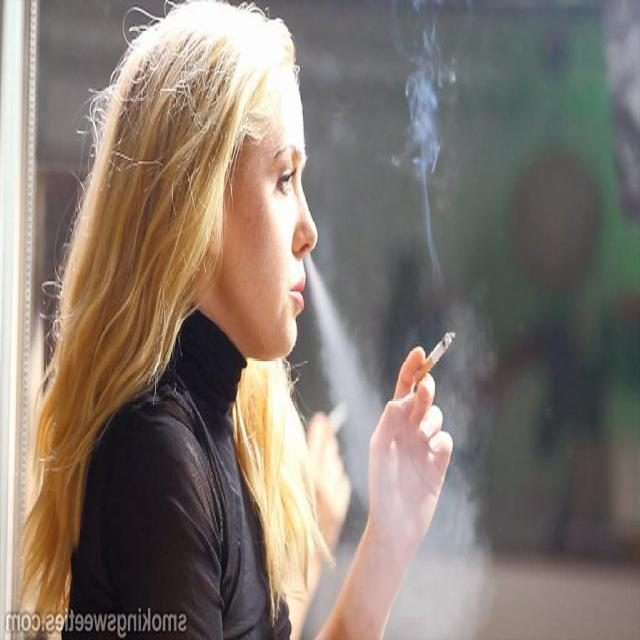smoking: (411, 328, 457, 394)
